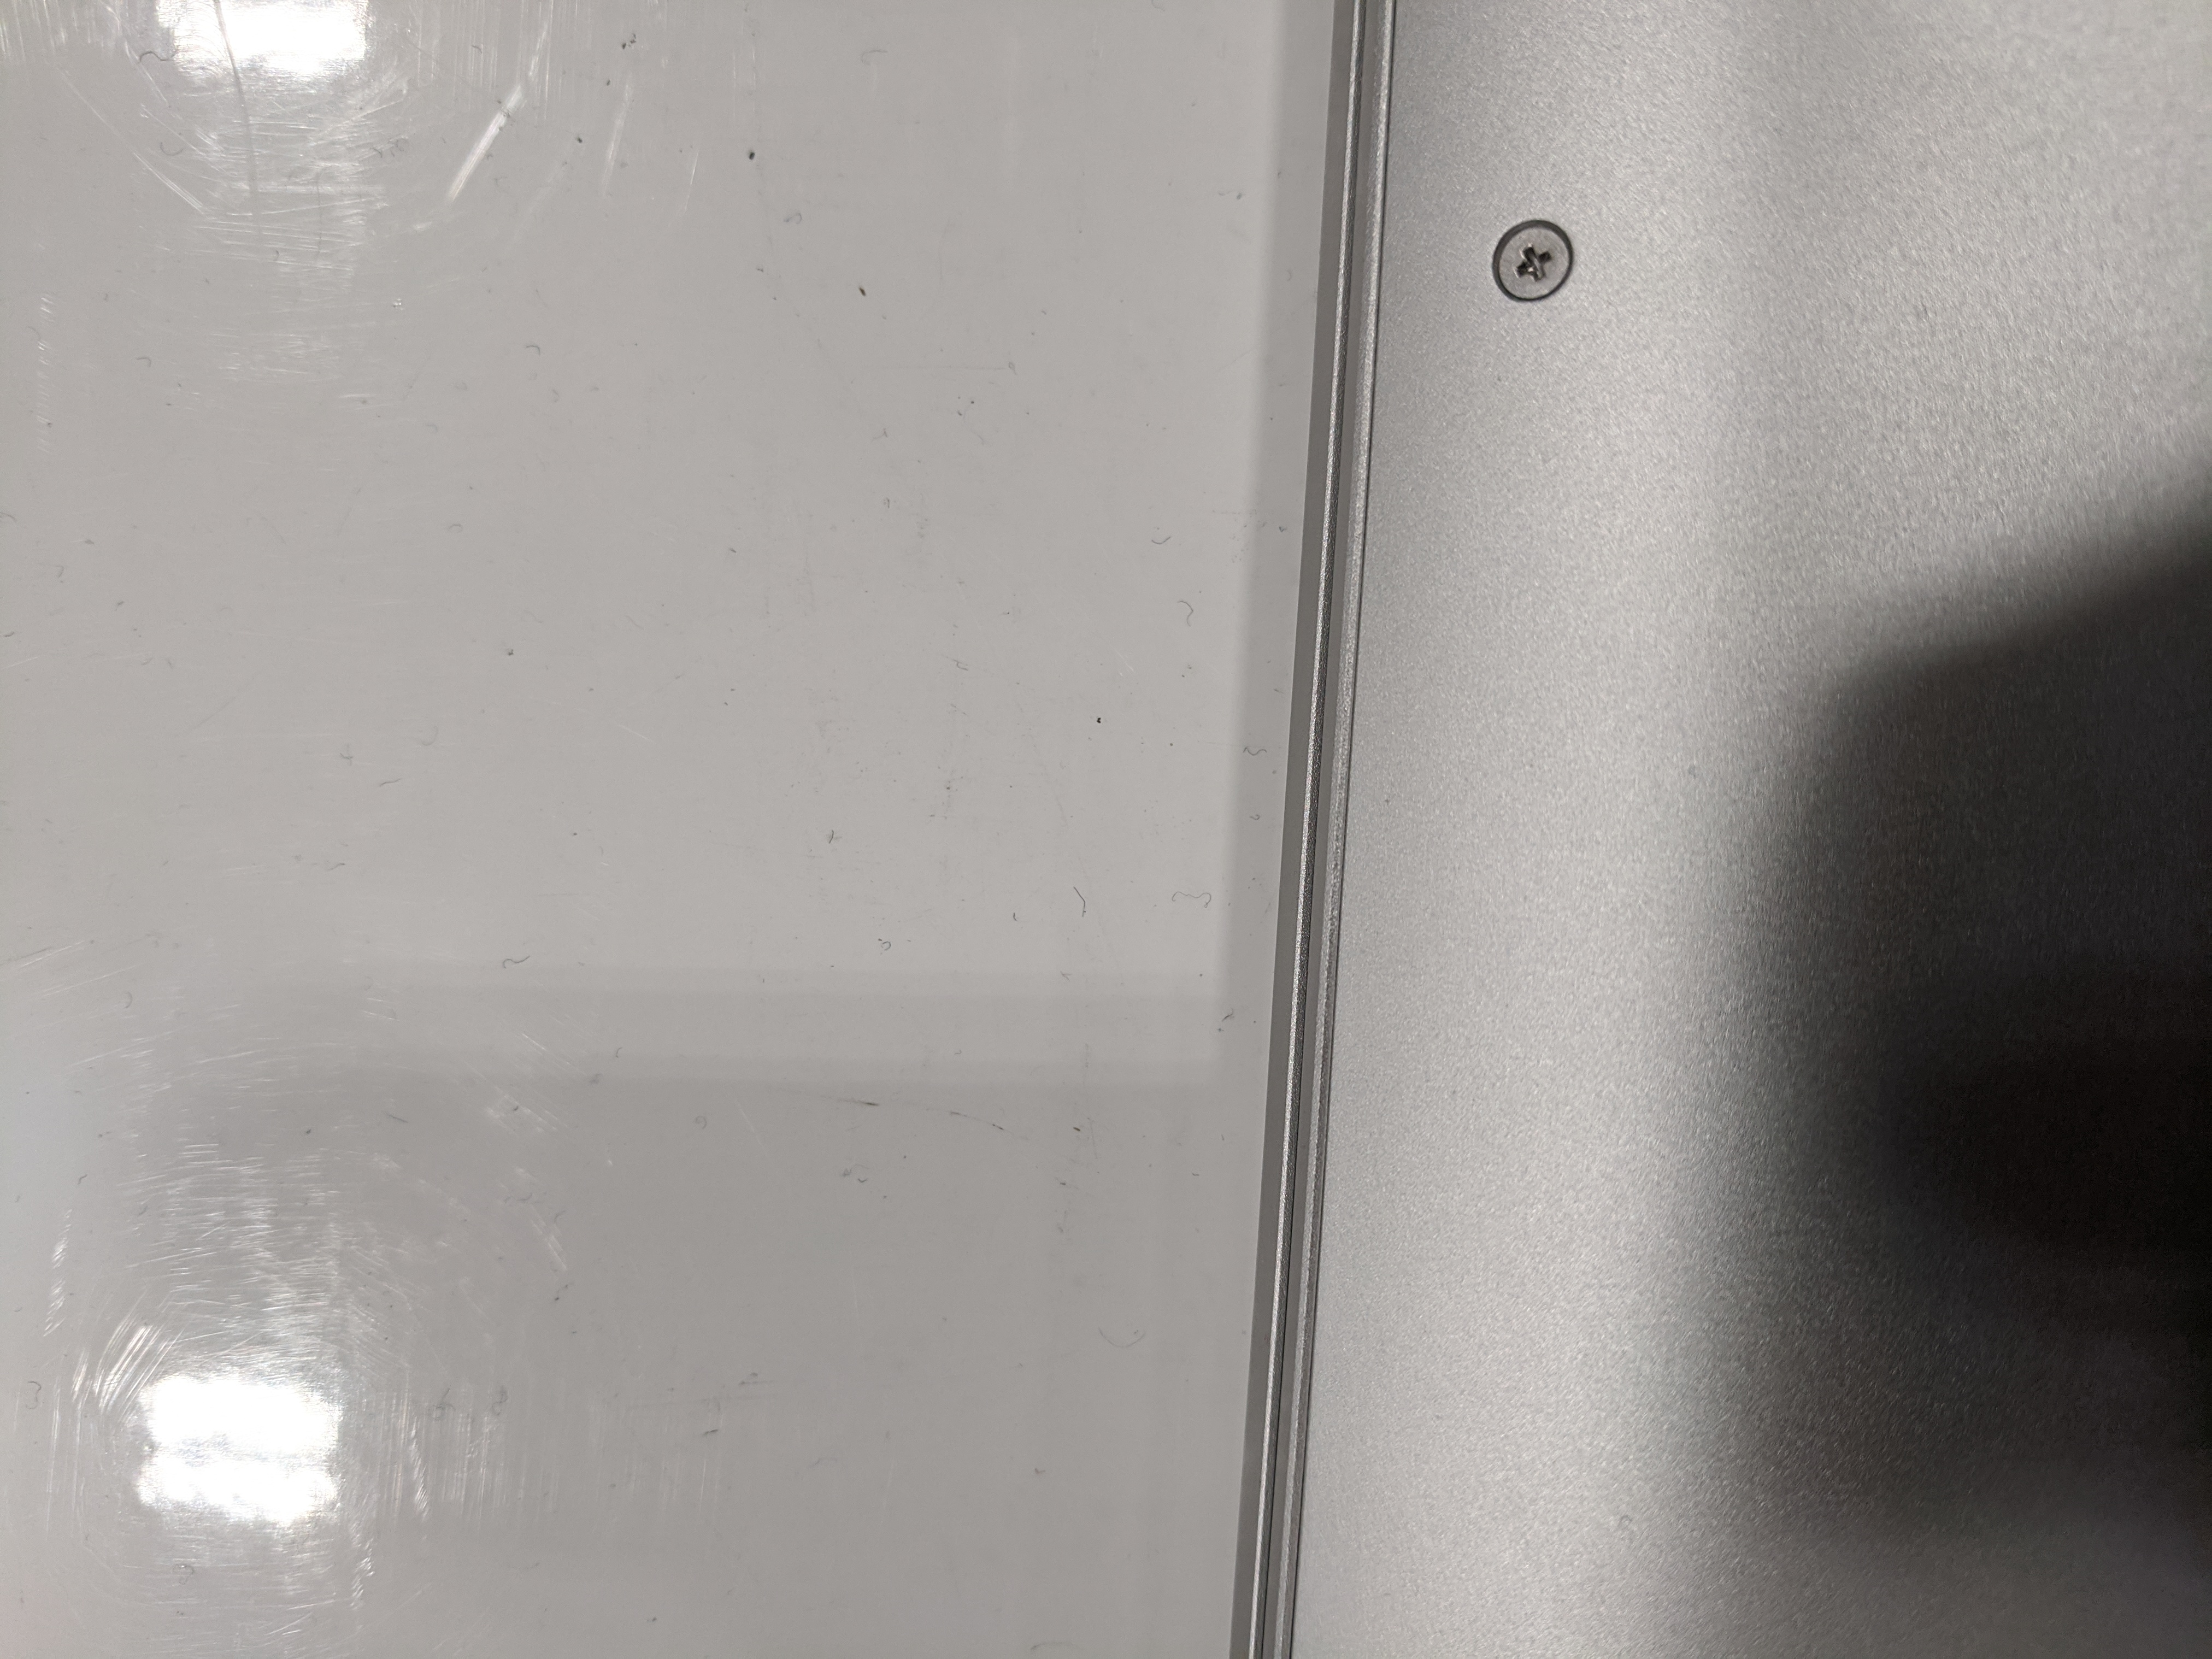cross_recessed_screw: (1484, 207, 1588, 312)
